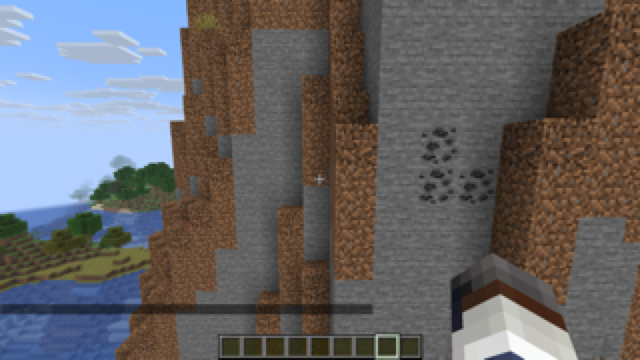coal: (420, 122, 497, 209)
